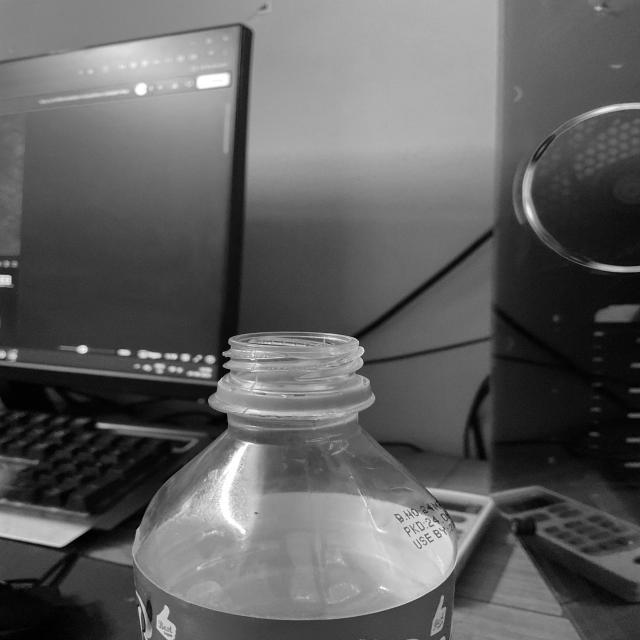open-cap: (212, 330, 372, 409)
